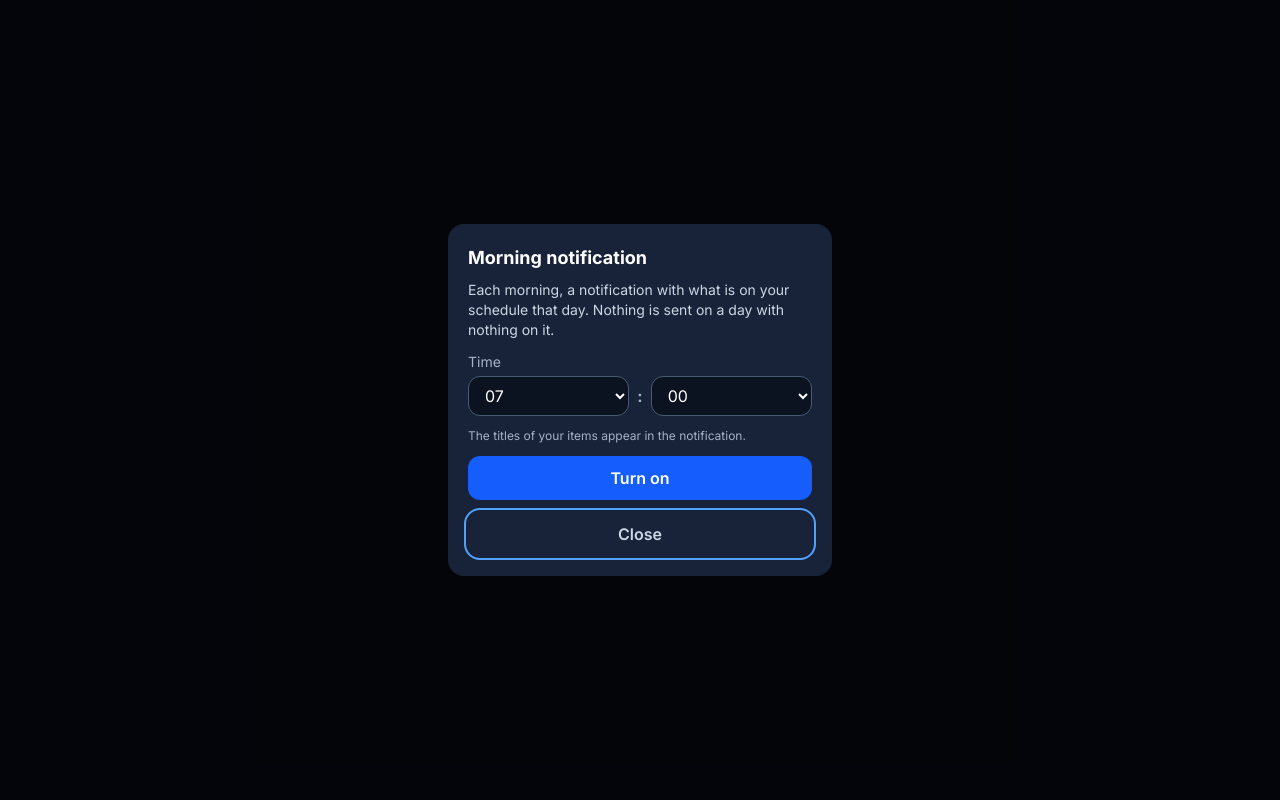
off › a failed save says so
The image size is (1280, 800).
Step 1. Click the button "Turn on" → (640, 478), box [468, 456, 812, 500]
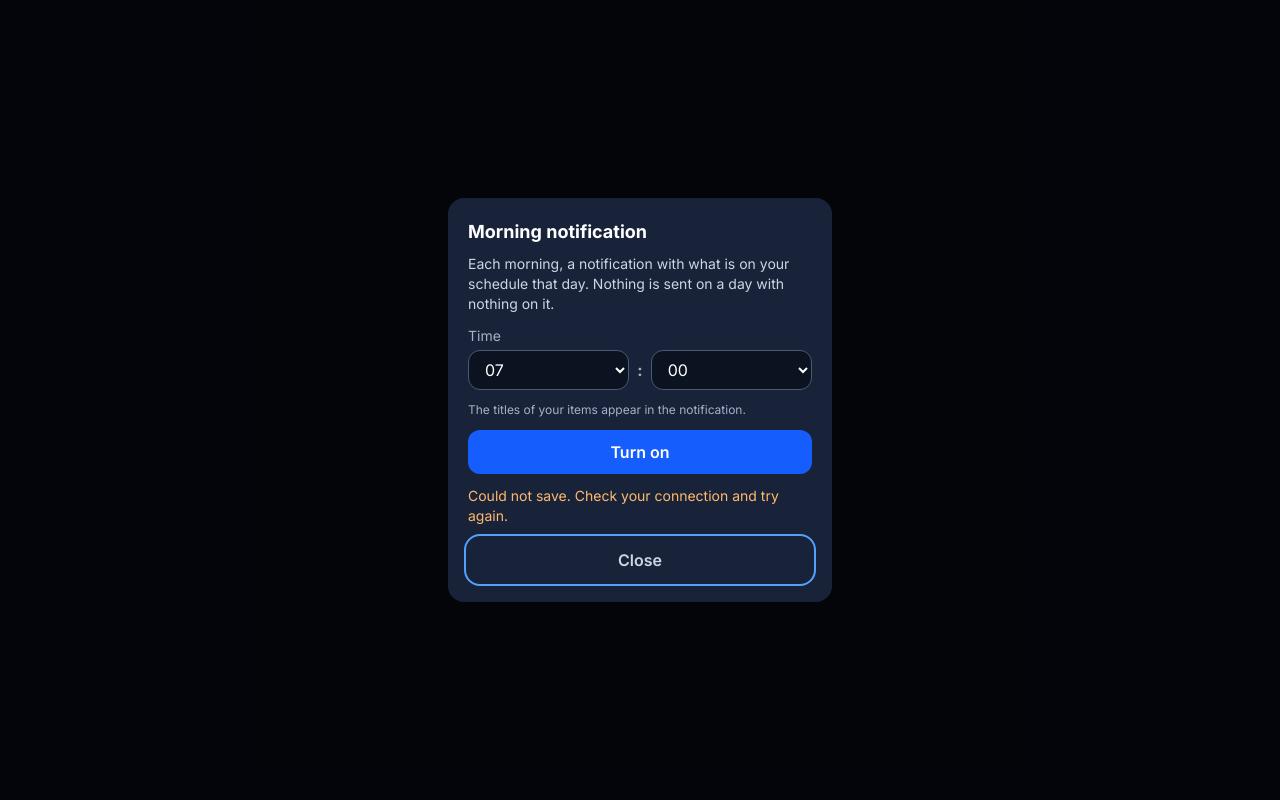
Expected: the button "Turn on" is enabled, [468, 430, 812, 474]
Expected: the message reads "Could not save. Check your connection and try again.", [468, 487, 779, 524]
